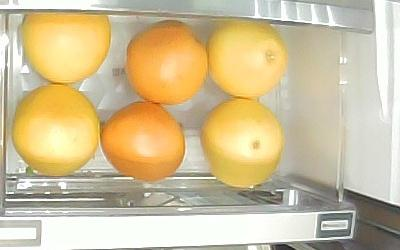grapefruit: (12, 84, 102, 175), (199, 98, 284, 189), (124, 21, 208, 106), (101, 101, 187, 182), (20, 11, 113, 85), (207, 19, 288, 99)
